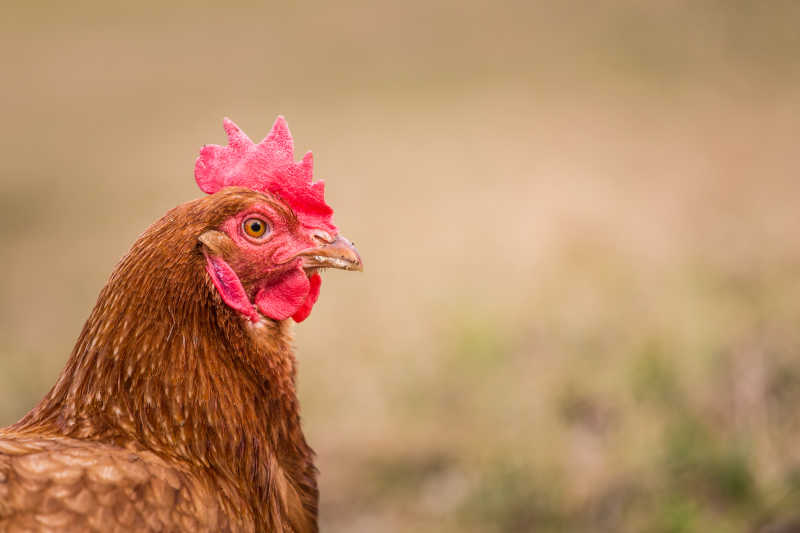chicken: (2, 110, 372, 532)
